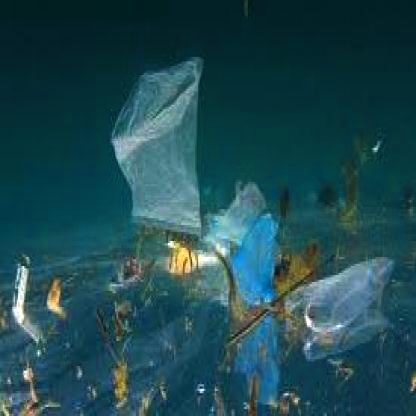pbag: (109, 54, 206, 236), (288, 252, 396, 341), (206, 180, 278, 304)
